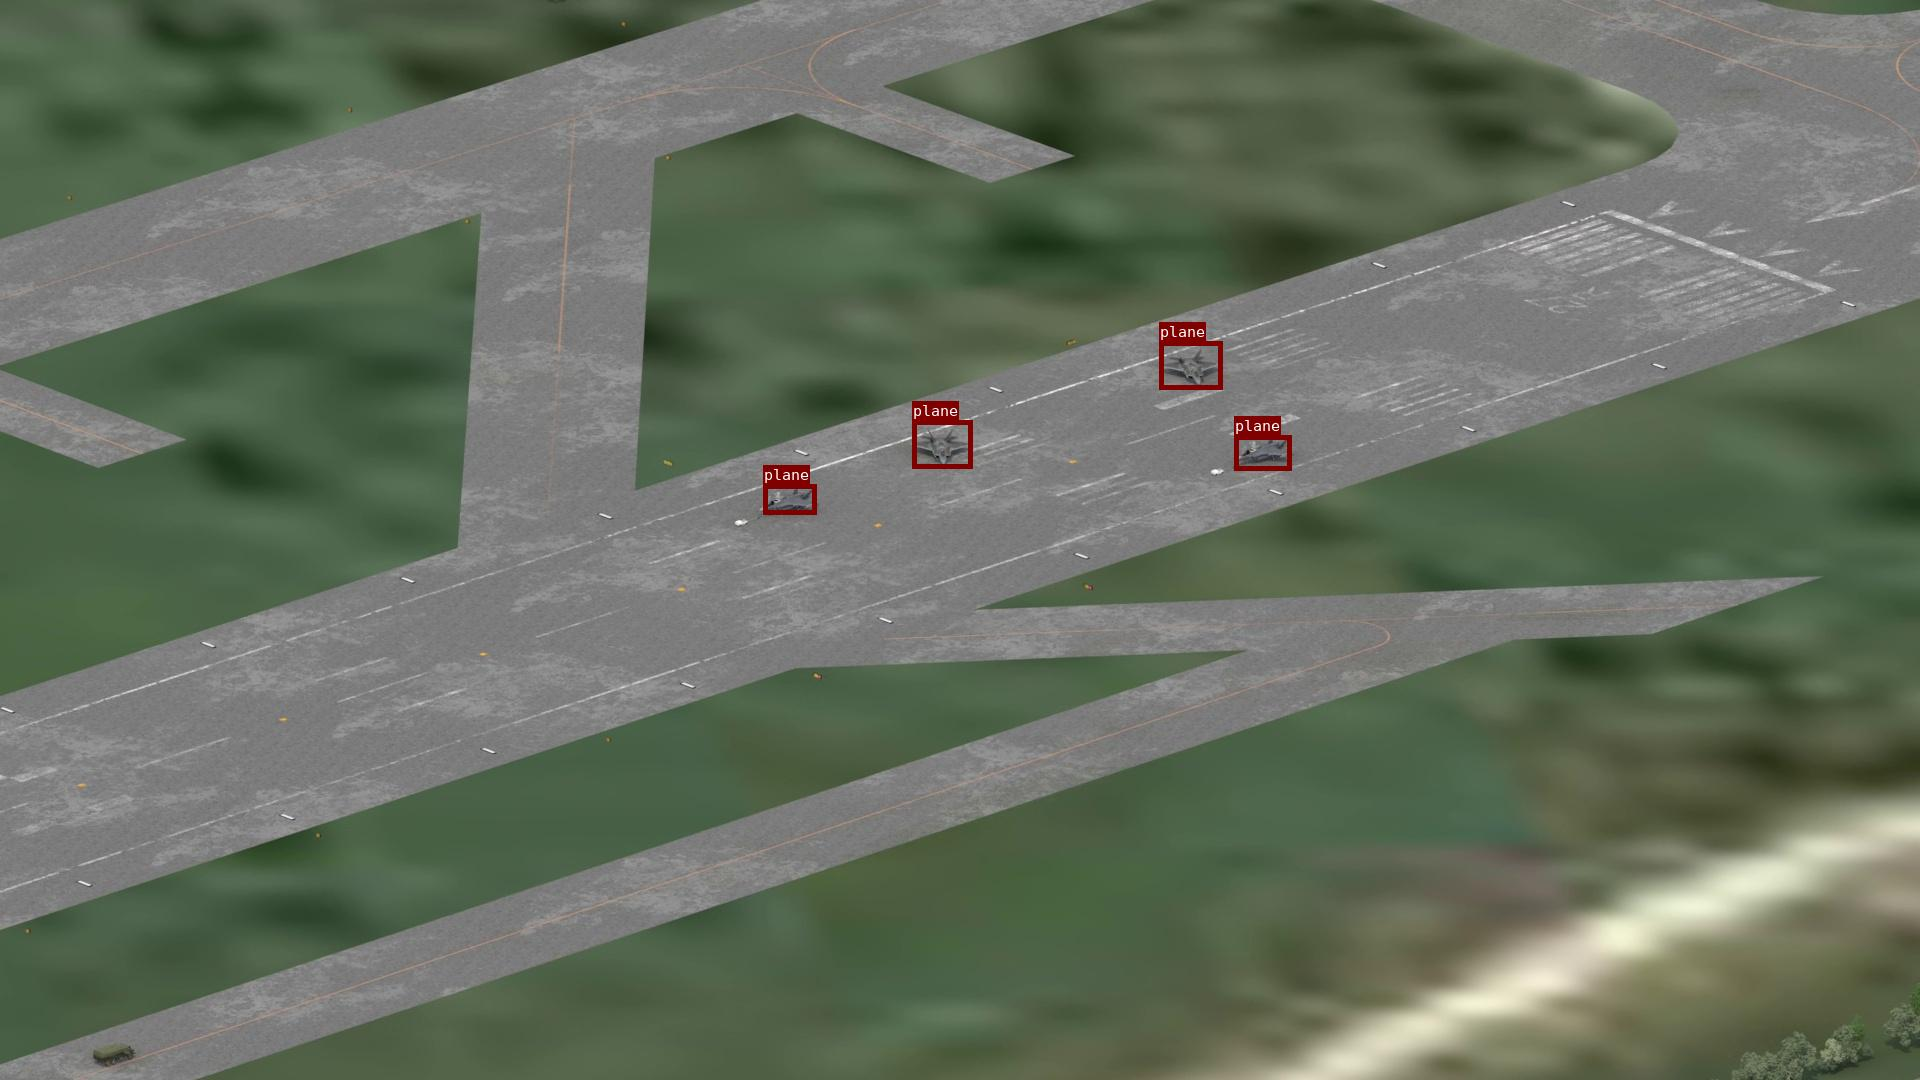plane: (1159, 342, 1222, 389), (913, 419, 972, 468), (1234, 435, 1291, 469), (764, 484, 816, 514)
